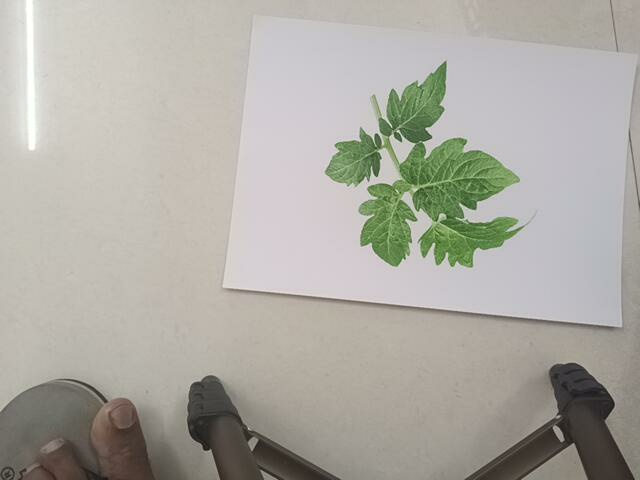Tomamto_Leaf_Healthy: (321, 49, 545, 292)
